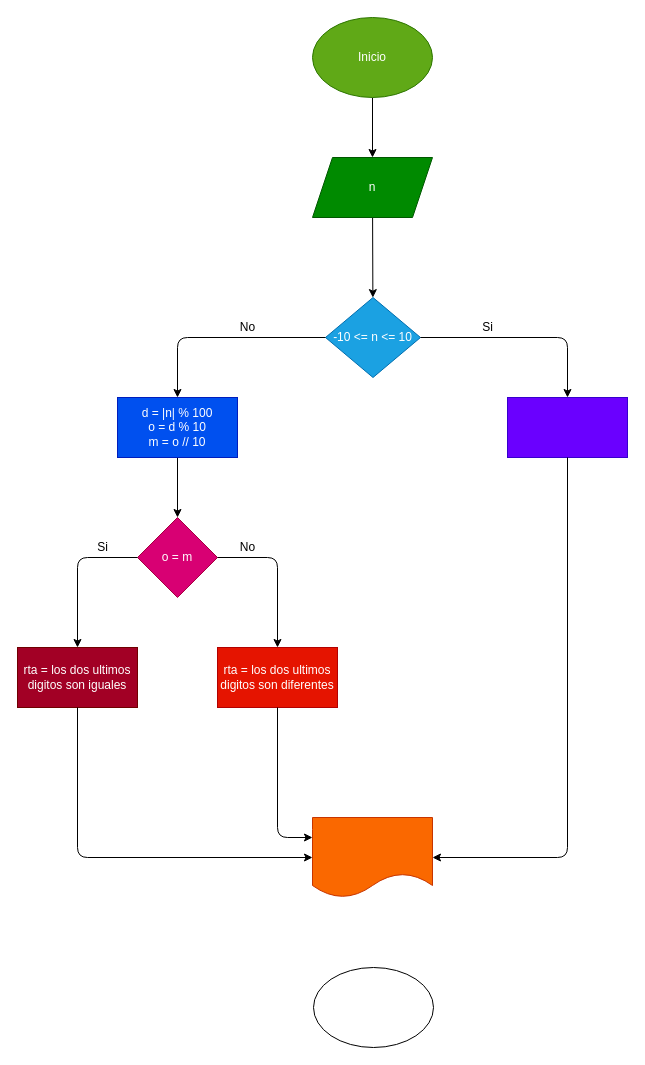
Some shapes in this 645 by 1065 pixel diagram are drawn without their labels. Here are the shapes that lost their labels. From the top down, the centre of each, then its label:
At point (567, 427): "rta = el numero no tiene mas de dos digitos".
At point (372, 857): "rta".
At point (373, 1007): "Fin".
